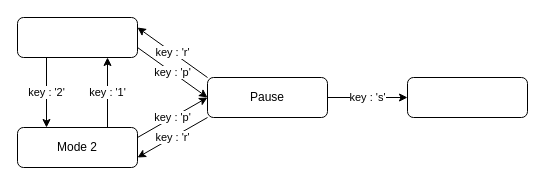
Some shapes in this 545 by 185 pixel diagram are drawn without their labels. The box of each missing label's shape, as (x1, y1, x2, y2) in pixels:
Save Image: (406, 76, 528, 118)
Start (Default : Mode 1): (16, 16, 138, 58)
